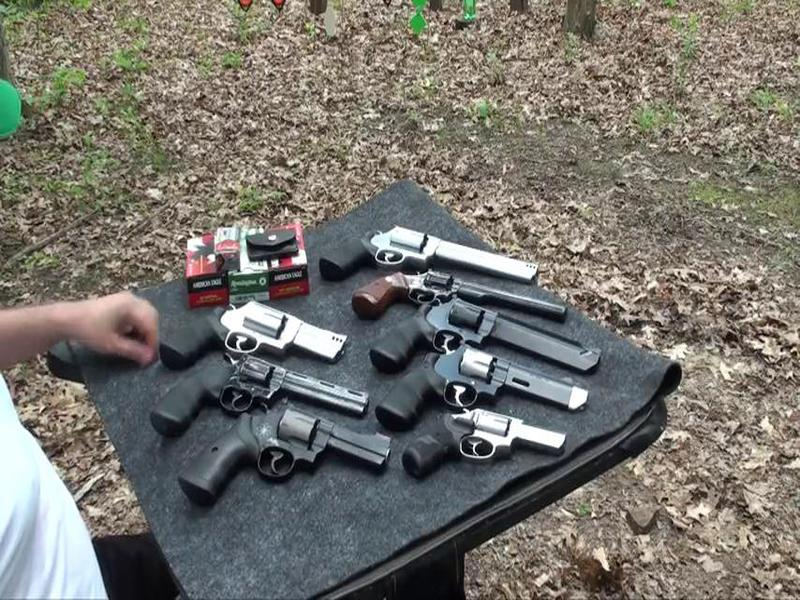Revolver: (194, 414, 407, 509), (363, 304, 603, 378), (315, 214, 542, 292), (132, 294, 353, 373), (346, 262, 583, 335), (138, 353, 366, 427), (387, 347, 587, 425), (382, 409, 563, 492)
